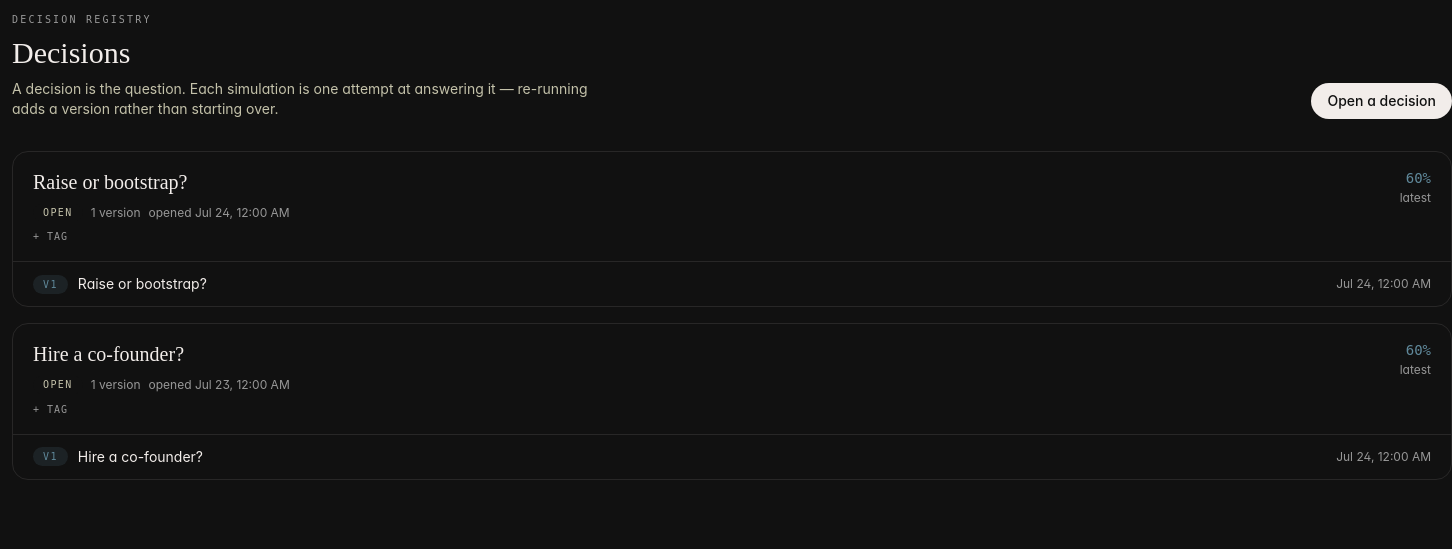
it: DecisionsPage tagging › removes a tag
In the 1st field with placeholder "+ tag": x=65, y=237 [33,229,97,245], type "Funding"
Then press Enter
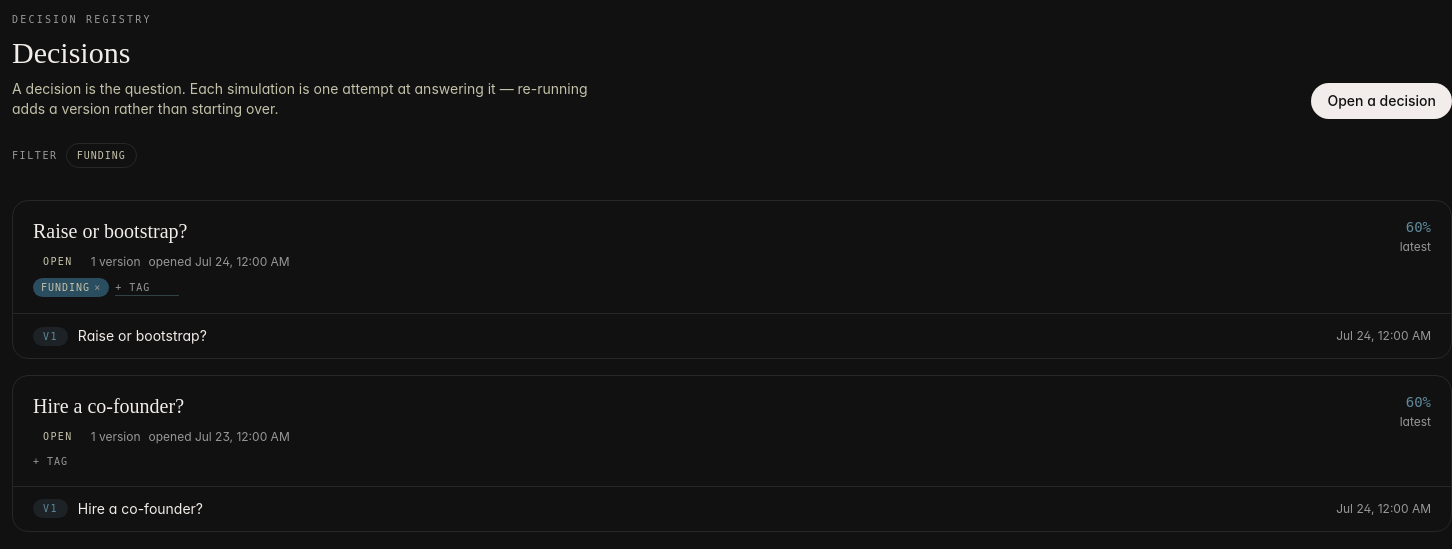
Click the button named "remove tag funding": x=98, y=288 [94,280,101,295]
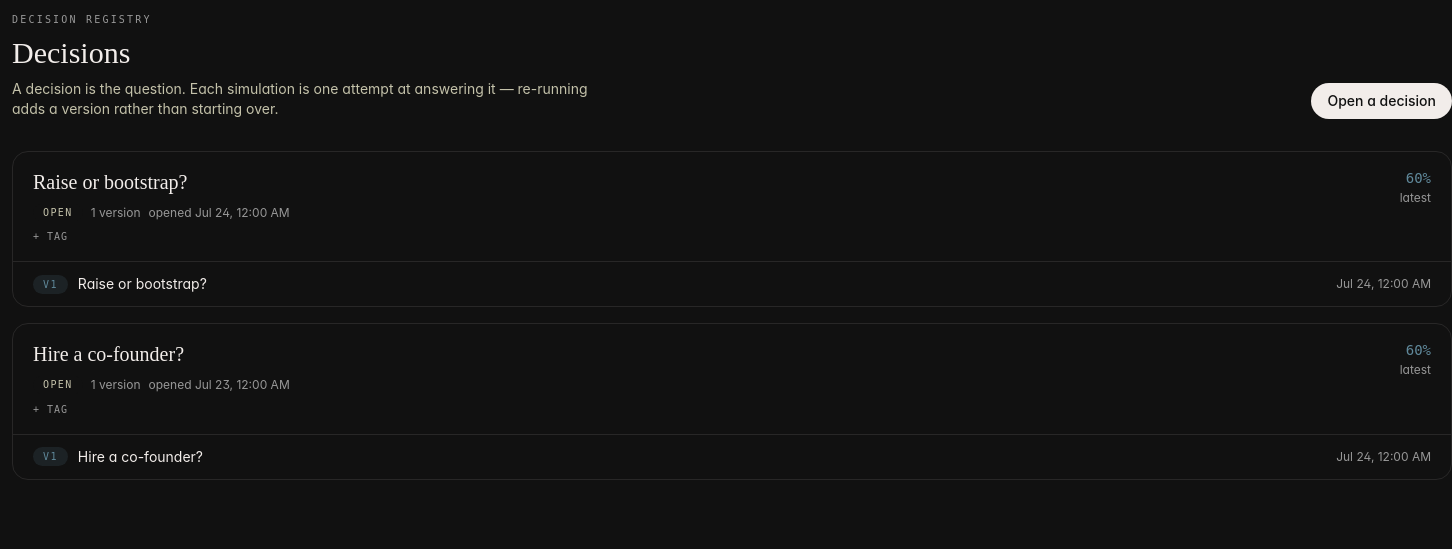
Check: the button "Funding" is gone
